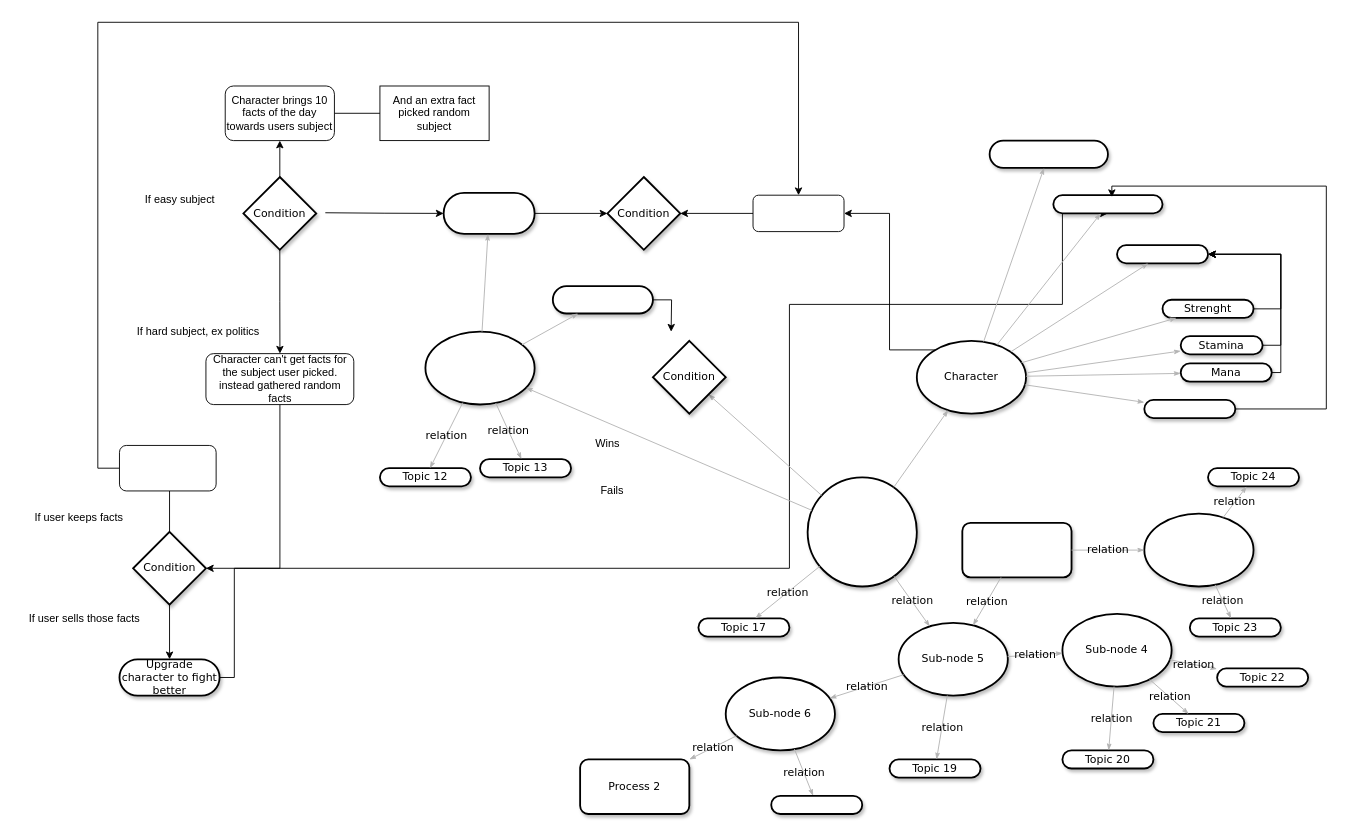
This 1350x837 diagram has some shape labels left out. Here are the shapes that lost their labels. From the top down, the centre of each, then its label:
(1049,155): Character official design
(490,214): User can pick news subject
(798,213): Character mood
(1108,205): Shop
(1163,255): Stats
(603,300): Character fights propaganda
(480,369): Missions
(1190,410): Currency
(167,468): Can change characters mood and class
(863,532): News app
(1017,551): Process 1
(1199,551): Sub-node 3
(817,806): Topic 18
